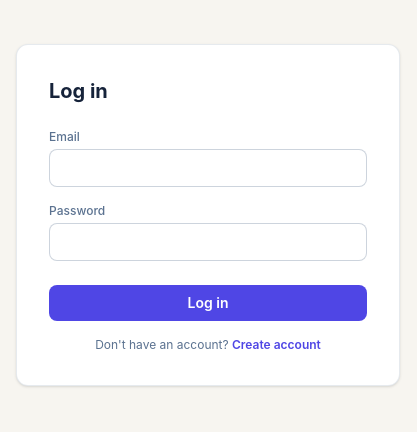
Test case: LoginPage › shows an inline error and does not navigate when the account is locked (edge case)
The image size is (417, 432).
In the field labelled "Email": (208, 168) [49, 149, 367, 187], type "alice@example.com"
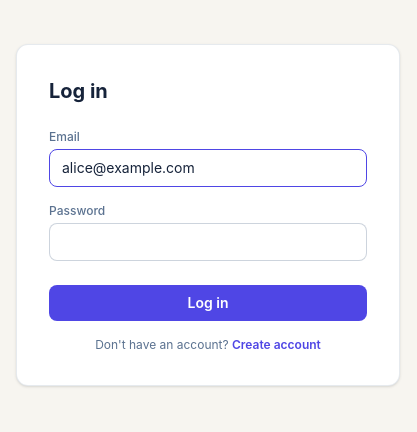
In the password field labelled "Password": (208, 242) [49, 223, 367, 261], type "a very strong password"
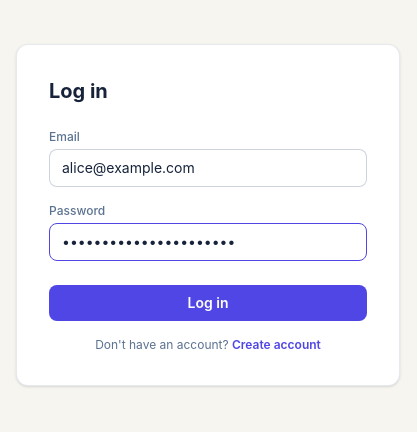
Click the button "Log in": click(208, 303) [49, 285, 367, 321]
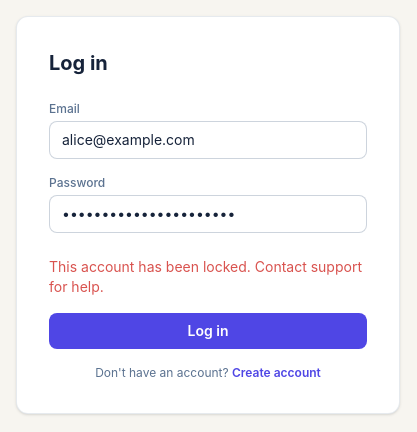
expect the text "This account has been locked. Contact support for help." is shown: met, box [49, 257, 367, 297]
